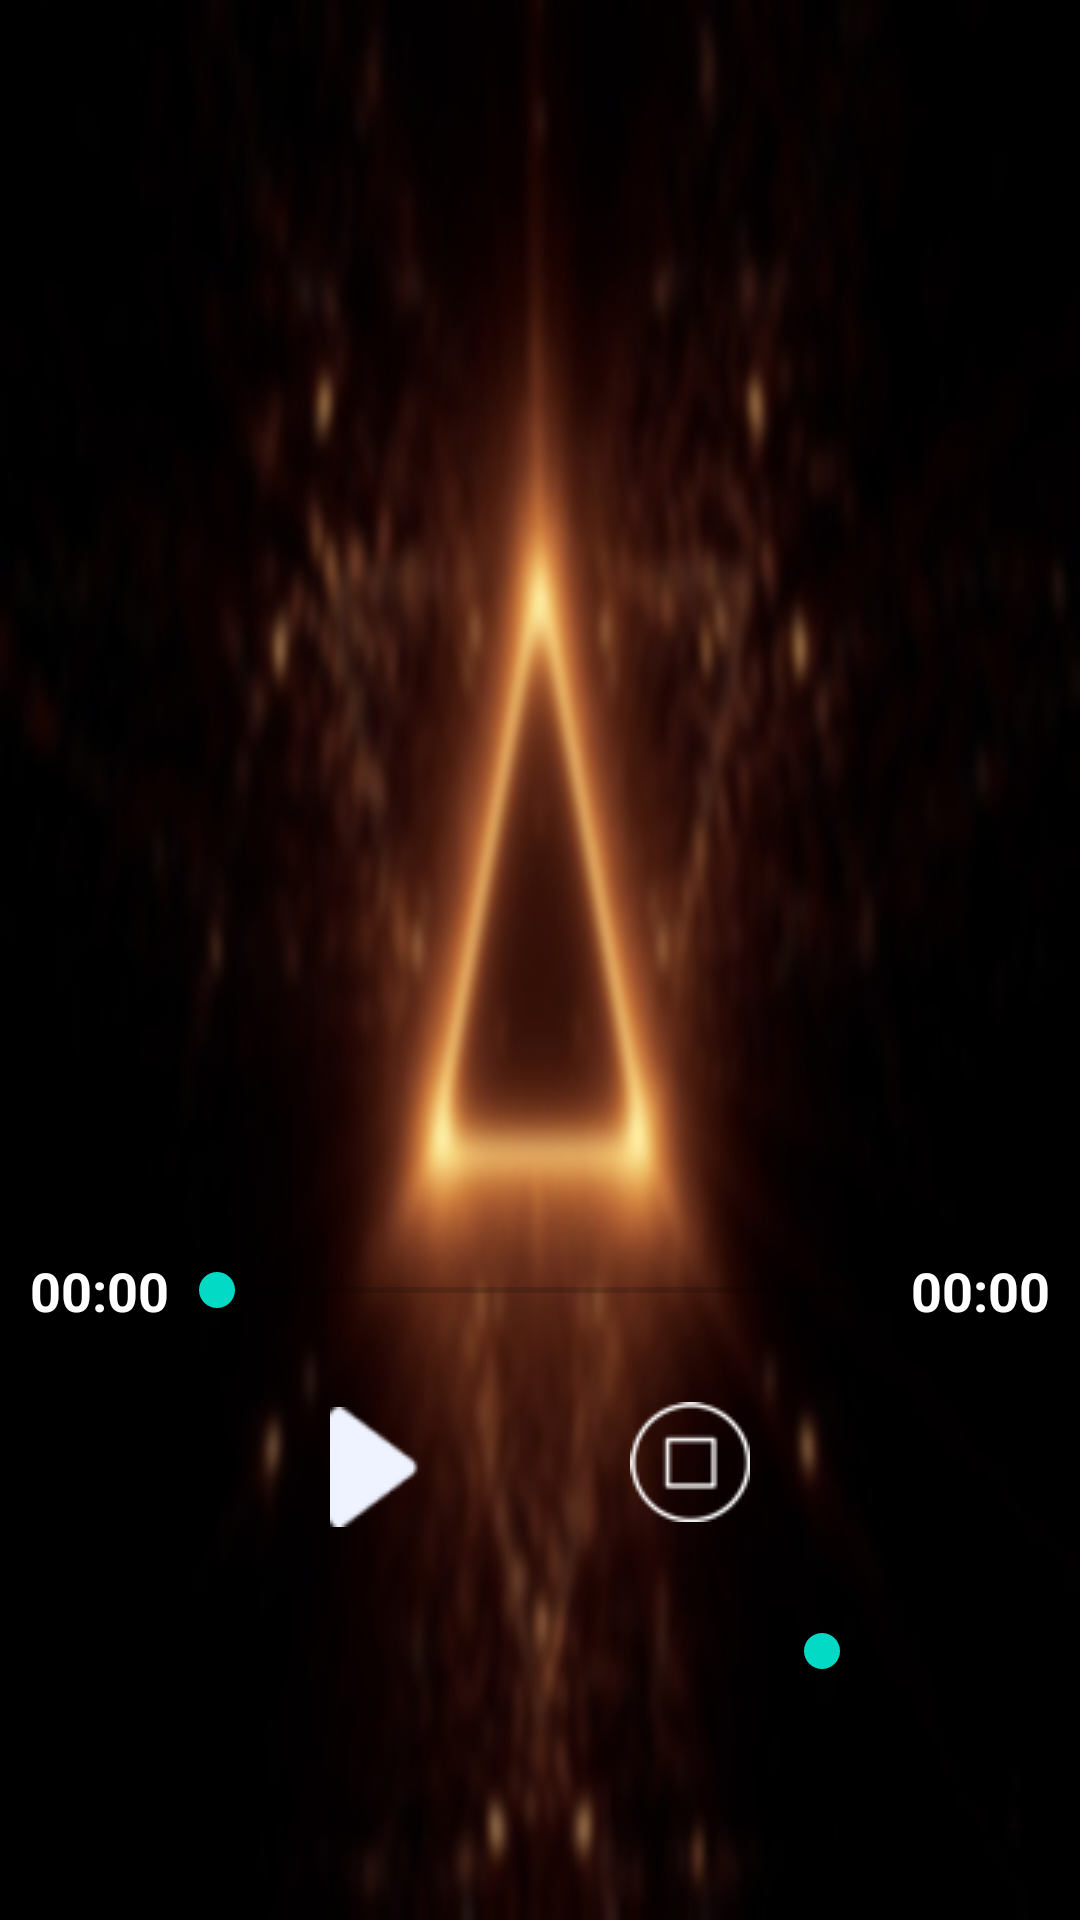

Icon click points for this 1080*1920 phone screenshot, format (x,y):
stop: (690,1462)
